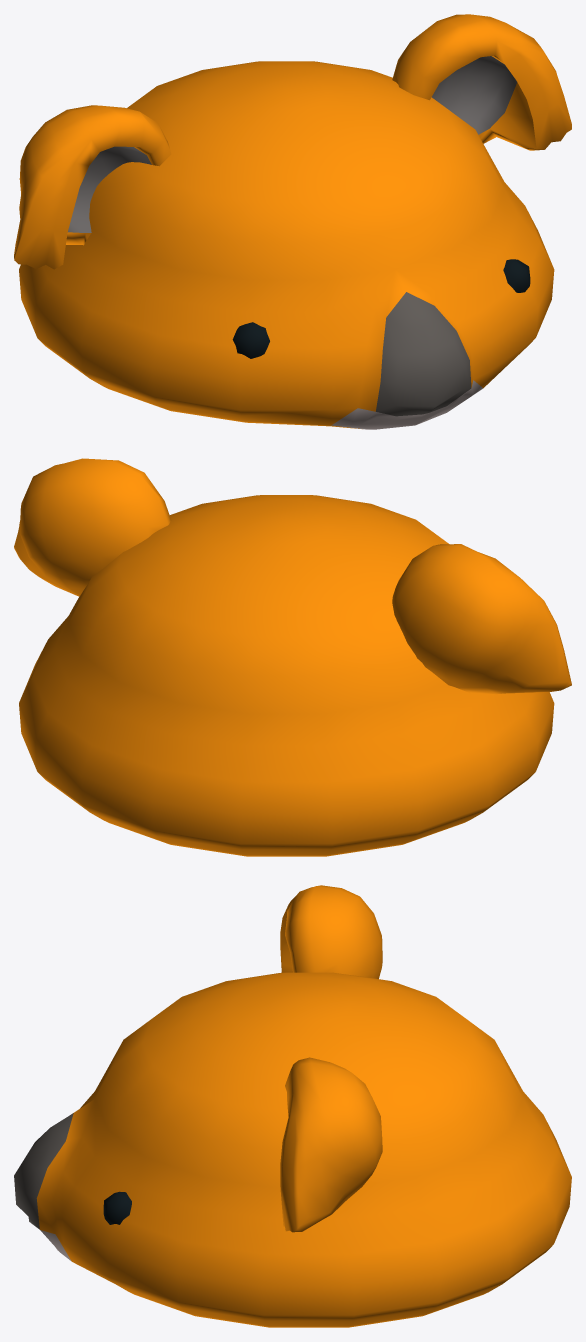
The model's file is Hat_48_03.fbx.
3 views of the same model, one above another, from view 1: azimuth 30°, elevation 25°; view 2: azimuth 150°, elevation 25°; view 3: azimuth 270°, elevation 25° (orthographic).
Visible parts, largest first — view 1: Hat_48_03; view 2: Hat_48_03; view 3: Hat_48_03.
Part boxes in pixels (<box>): Hat_48_03: <box>14,14,571,429</box>; Hat_48_03: <box>14,458,571,856</box>; Hat_48_03: <box>14,885,571,1327</box>.
Size of the model in its own units: 51.18 by 23.22 by 45.15.
